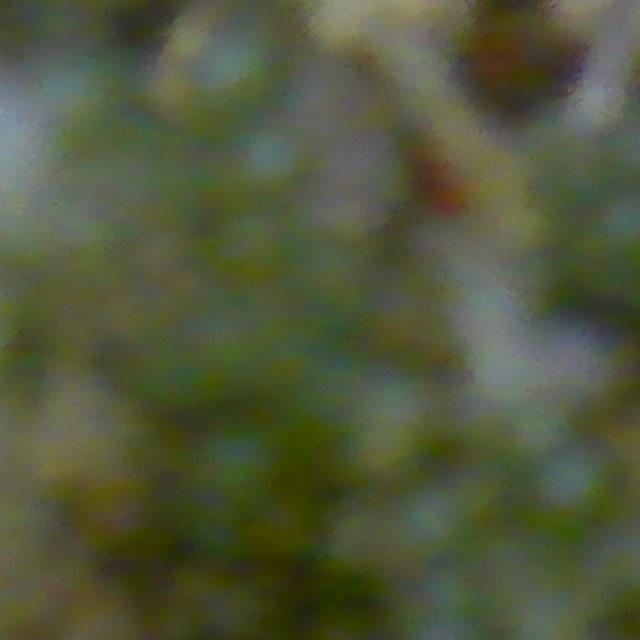SeaGrape: (193, 17, 282, 110), (194, 419, 285, 507), (393, 480, 476, 561), (229, 120, 309, 201), (535, 443, 614, 521)
